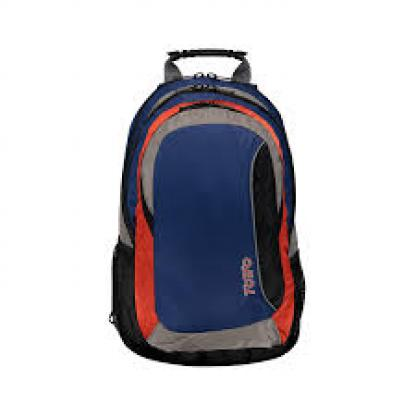morral: (83, 35, 338, 381)
